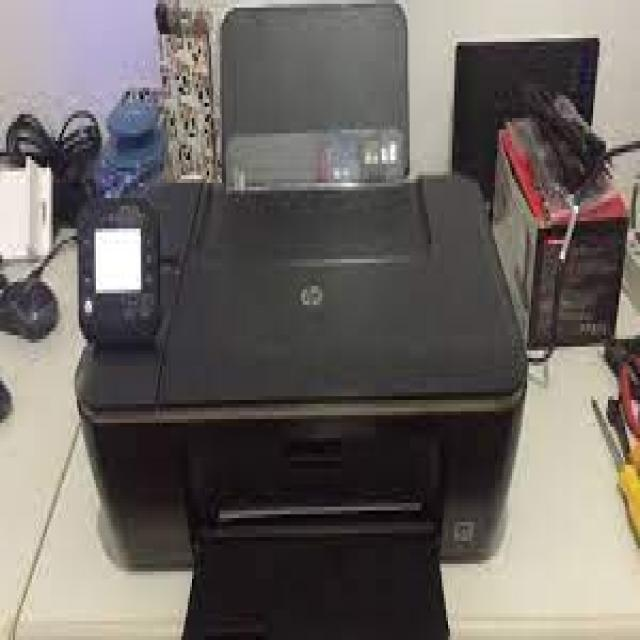printer: (55, 0, 543, 640)
